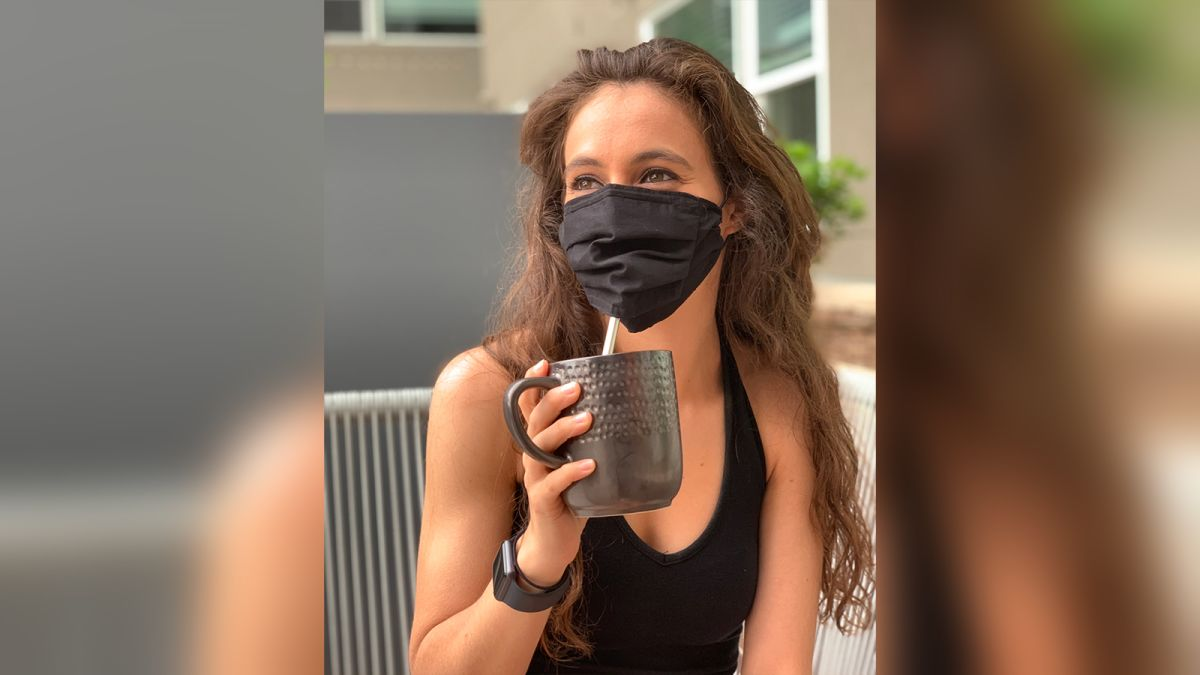with_mask: (557, 99, 713, 304)
